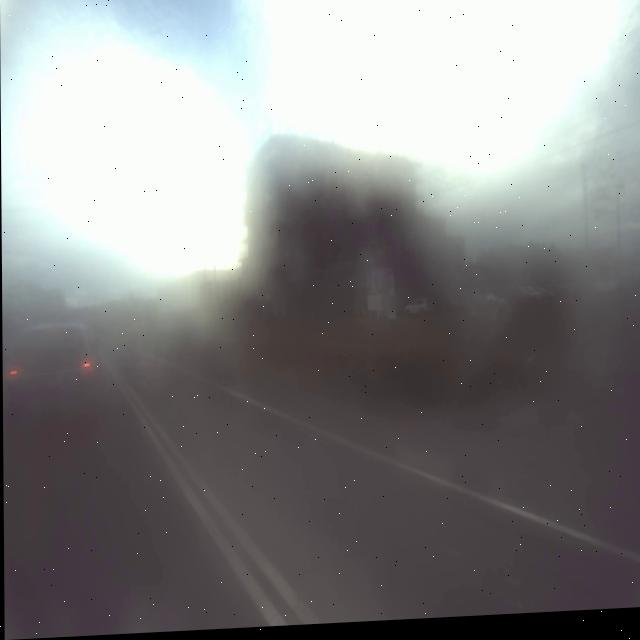car: (9, 300, 94, 432)
